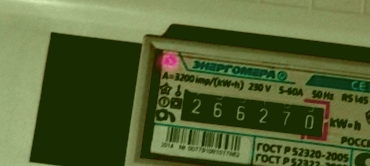0: (301, 112, 315, 130)
2: (187, 95, 202, 115), (255, 105, 268, 124)
6: (209, 99, 223, 118), (232, 103, 246, 122)
7: (278, 108, 291, 127)
screen: (168, 78, 336, 147)
